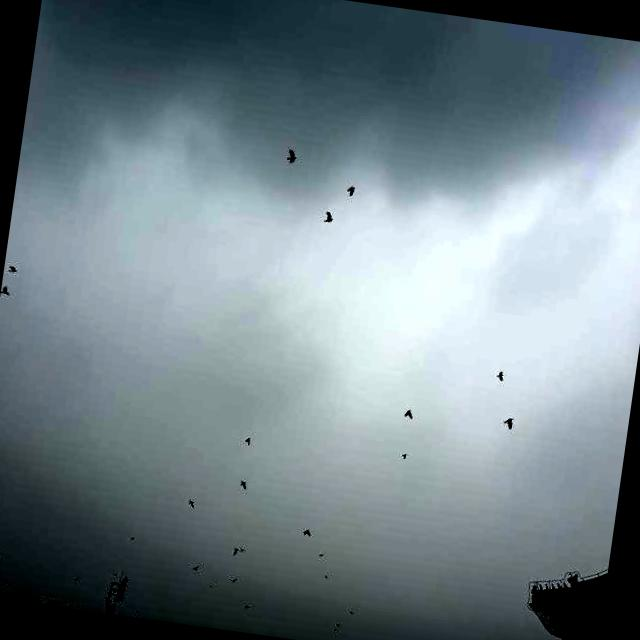bird: (342, 176, 364, 204), (320, 206, 340, 235), (282, 149, 302, 176), (499, 410, 519, 434), (299, 519, 318, 544), (400, 402, 419, 424), (188, 558, 204, 580), (7, 261, 25, 280), (186, 495, 200, 517), (495, 368, 512, 383)
